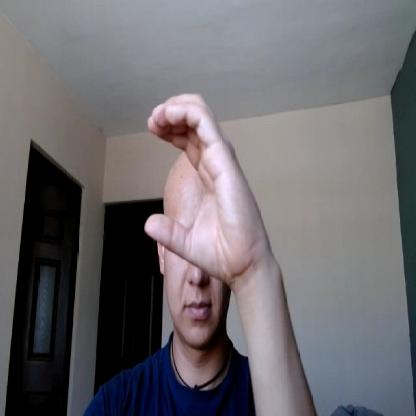C: (144, 92, 261, 281)
